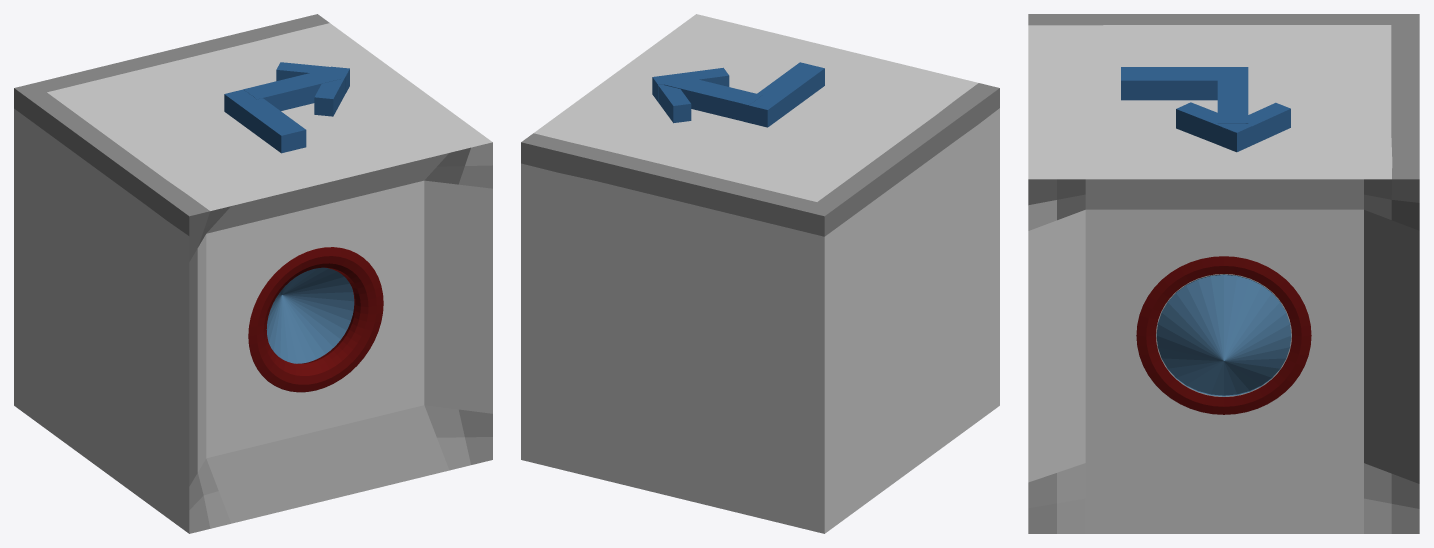
The model's file is mirror_coloured_rotated.fbx.
The picture shows the model from 3 angles, left to right: view 1: azimuth 30°, elevation 25°; view 2: azimuth 150°, elevation 25°; view 3: azimuth 270°, elevation 25°; orthographic projection. The views are drawn at different scales.
Parts seen in each view (by area): view 1: Cube, Torus.001, Base, Arrow, Point, Point.001; view 2: Cube, Base, Arrow, Point.001, Point; view 3: Cube, Cone, Torus, Base, Point, Point.001, Arrow.
Boxes of the visible parts, x1=… form: Cube: x1=14, y1=14, x2=492, y2=533; Torus.001: x1=248, y1=247, x2=383, y2=392; Base: x1=224, y1=89, x2=306, y2=153; Arrow: x1=243, y1=68, x2=341, y2=110; Point: x1=314, y1=66, x2=349, y2=116; Point.001: x1=276, y1=62, x2=349, y2=93; Cube: x1=521, y1=14, x2=999, y2=533; Base: x1=743, y1=62, x2=824, y2=127; Arrow: x1=664, y1=74, x2=762, y2=121; Point.001: x1=658, y1=84, x2=691, y2=123; Point: x1=652, y1=67, x2=729, y2=101; Cube: x1=1028, y1=14, x2=1419, y2=533; Cone: x1=1156, y1=275, x2=1291, y2=395; Torus: x1=1136, y1=256, x2=1311, y2=414; Base: x1=1121, y1=67, x2=1248, y2=100; Point: x1=1176, y1=102, x2=1251, y2=151; Point.001: x1=1221, y1=102, x2=1290, y2=152; Arrow: x1=1217, y1=77, x2=1248, y2=123.
Bounding box in the file's own units: 411 × 422 × 400.
